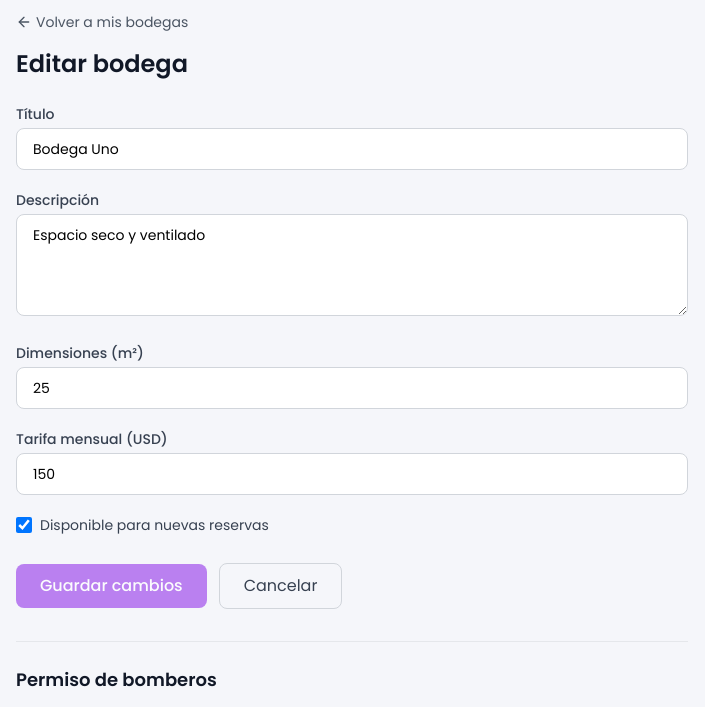
Test case: EditarBodega › saves only the changed fields and shows the success message (scenario 1)
Step 1. Replace the text in the field labelled "Título" with "Bodega Renovada" → (352, 149), box [16, 128, 688, 170]
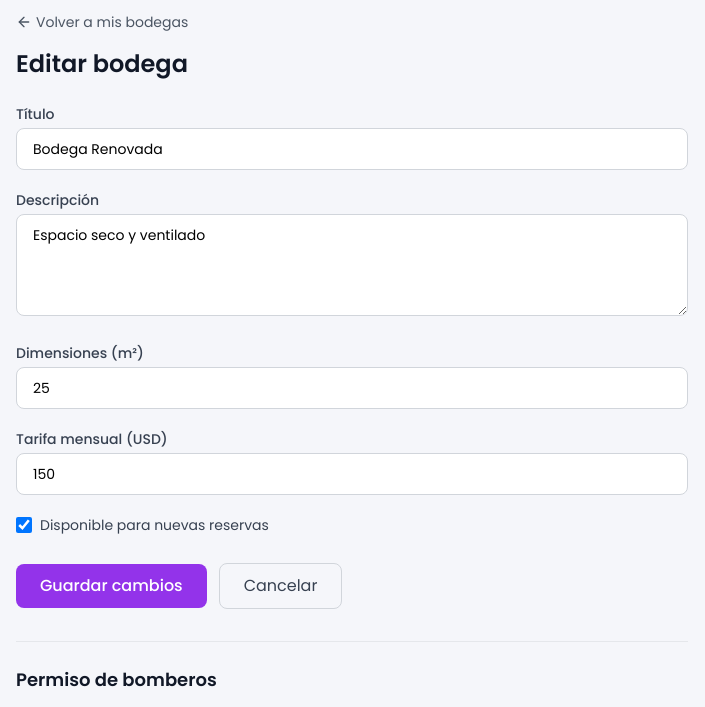
Step 2. Click the button "Guardar cambios" → (111, 586), box [16, 564, 207, 608]
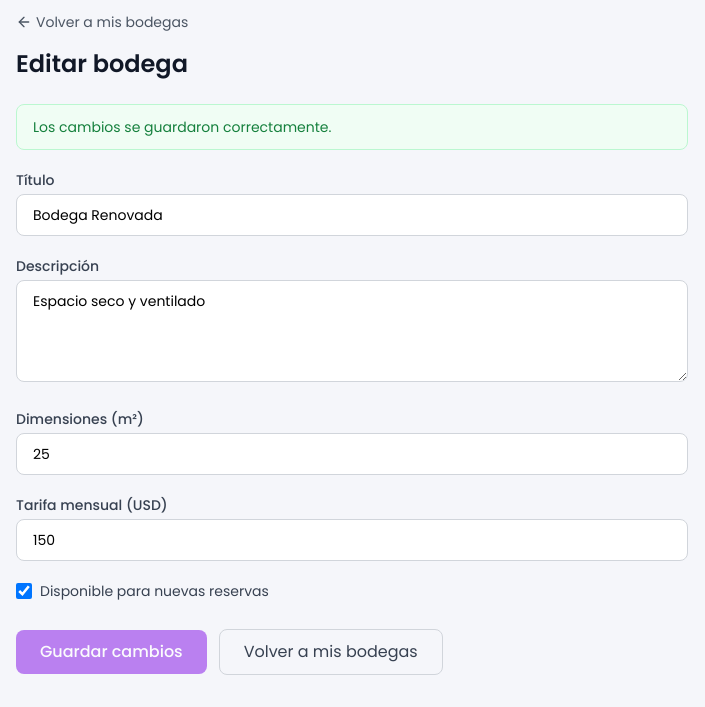
Check: the text "Los cambios se guardaron correctamente." is shown, box [16, 104, 688, 150]
